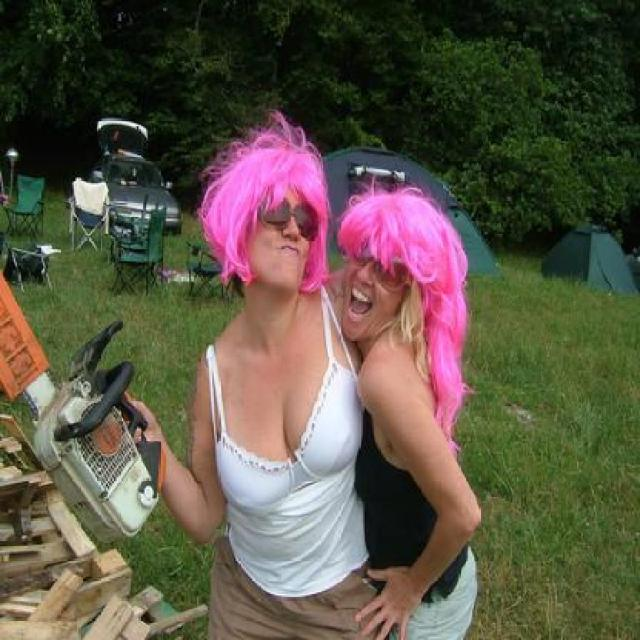Chainsaw: (0, 259, 169, 538)
